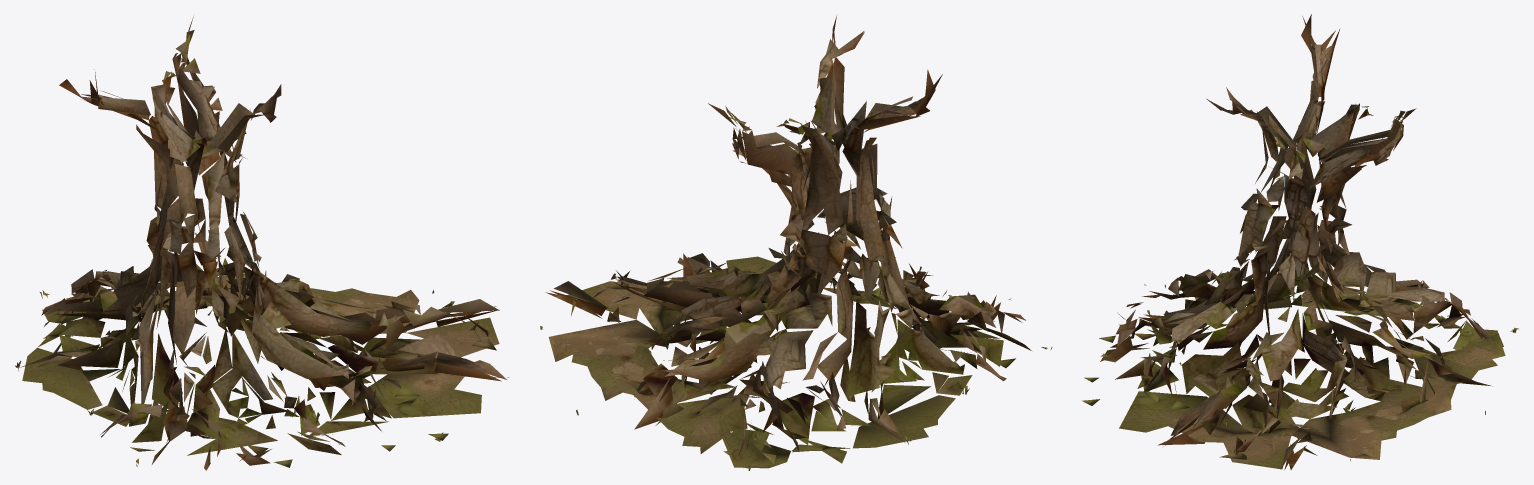
The model's file is jun_giant_surface_roots_a_LOD3.glb.
The picture shows the model from 3 angles, left to right: view 1: azimuth 30°, elevation 25°; view 2: azimuth 150°, elevation 25°; view 3: azimuth 270°, elevation 25°; orthographic projection. The views are drawn at different scales.
Parts seen in each view (by area): view 1: tripo_node_d526340f-c0b6-4e44-b6e3-9aaa0535eabd; view 2: tripo_node_d526340f-c0b6-4e44-b6e3-9aaa0535eabd; view 3: tripo_node_d526340f-c0b6-4e44-b6e3-9aaa0535eabd.
Boxes of the visible parts, <box> form: tripo_node_d526340f-c0b6-4e44-b6e3-9aaa0535eabd: <box>15,17,508,470</box>; tripo_node_d526340f-c0b6-4e44-b6e3-9aaa0535eabd: <box>540,15,1052,470</box>; tripo_node_d526340f-c0b6-4e44-b6e3-9aaa0535eabd: <box>1082,14,1518,469</box>.
Bounding box in the file's own units: 0.9778 × 0.7518 × 0.9712.
Materials: 1 (1 with a texture image).
